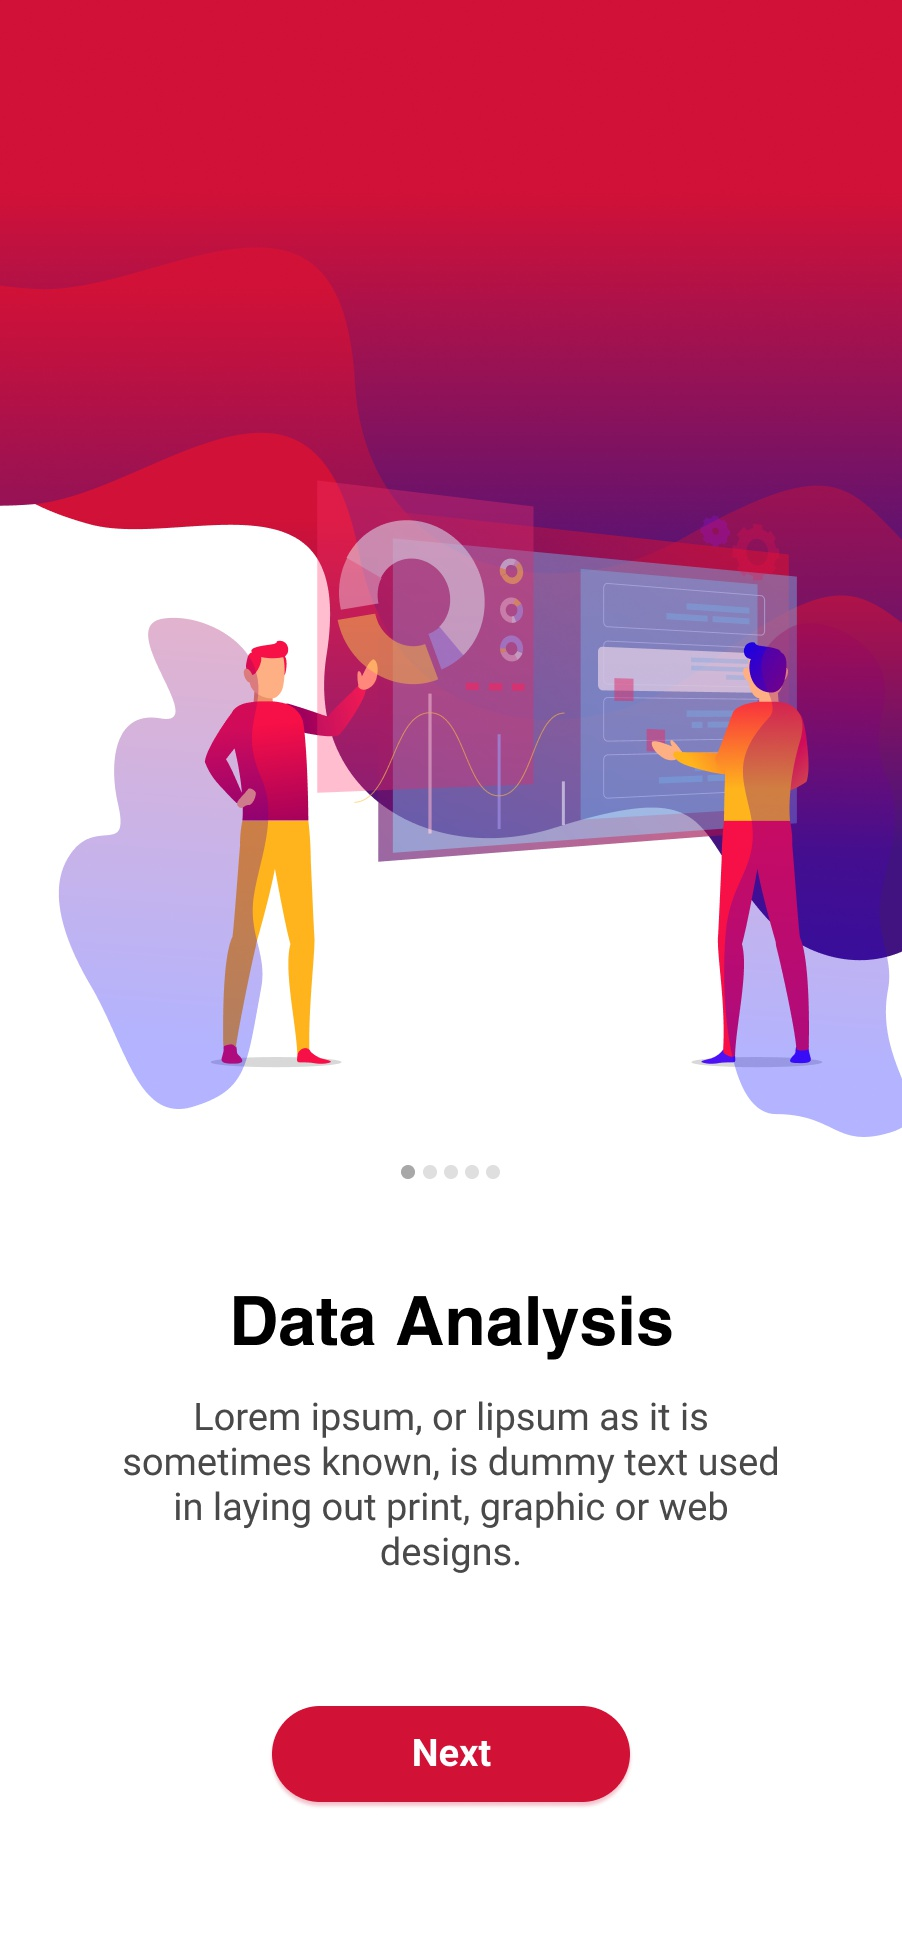Image: (1, 1, 902, 1138)
PageIndicator: (390, 1155, 502, 1189)
Text: (125, 1401, 779, 1576), (234, 1295, 673, 1361)
TextButton: (272, 1705, 630, 1802)
